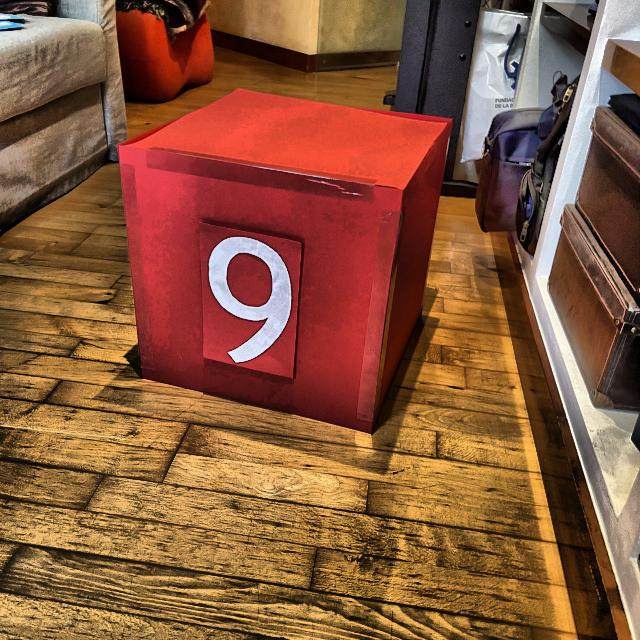nine: (207, 229, 298, 369)
red box: (125, 88, 453, 432)
